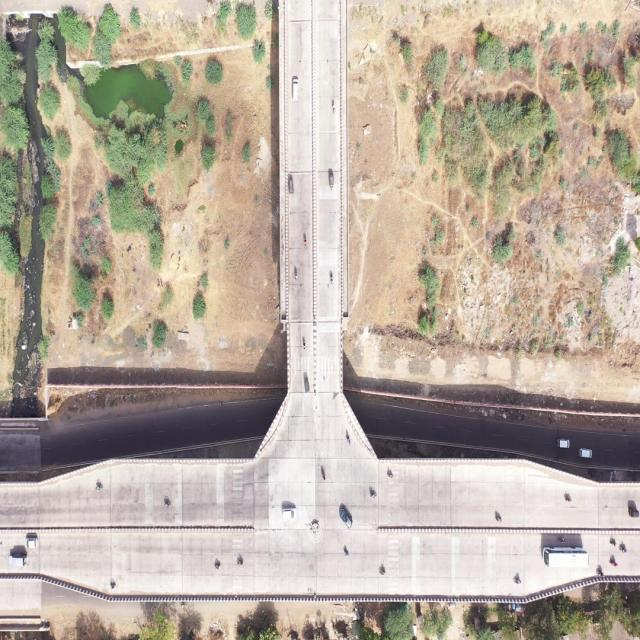3W: (627, 503, 640, 525), (302, 375, 312, 395), (327, 171, 336, 193), (288, 176, 297, 196)
Bus: (540, 544, 591, 574)
Cars: (338, 506, 354, 530), (280, 506, 299, 524), (290, 75, 301, 103), (577, 446, 593, 462), (555, 438, 571, 450), (25, 537, 39, 550)
M2W: (512, 575, 523, 588), (494, 513, 504, 526), (369, 488, 378, 502), (328, 270, 335, 288), (94, 482, 104, 494), (162, 499, 172, 511), (386, 472, 396, 484), (378, 566, 388, 578), (301, 231, 308, 248), (344, 434, 352, 448), (293, 264, 300, 280), (595, 566, 604, 578), (320, 468, 327, 483), (609, 559, 619, 569), (300, 335, 306, 351), (330, 100, 336, 115), (235, 559, 244, 568), (557, 535, 566, 544), (619, 546, 628, 555), (110, 582, 118, 592), (564, 495, 572, 504), (343, 549, 350, 558), (609, 539, 616, 548), (214, 562, 220, 572)
Truck: (7, 552, 32, 568)
